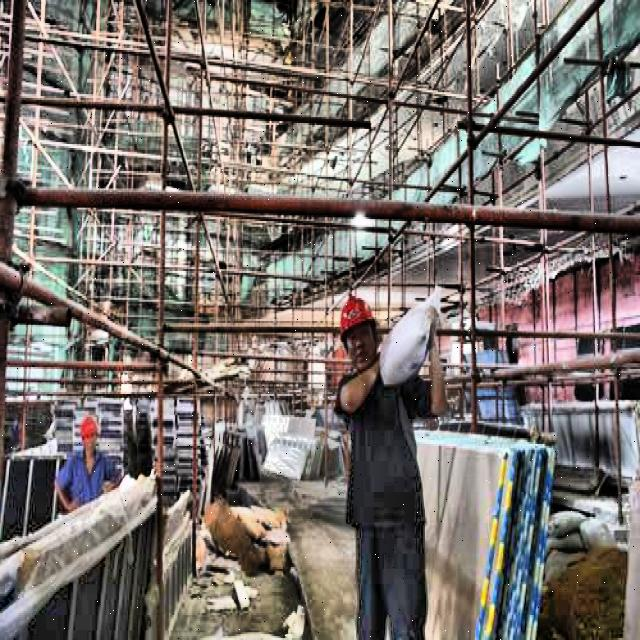helmet: (333, 286, 381, 381), (80, 410, 100, 458)
